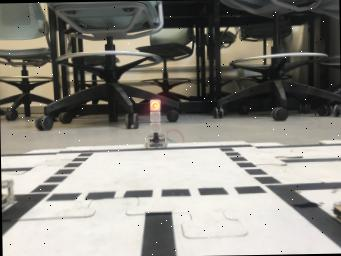street: (0, 141, 341, 256), (0, 141, 341, 256), (0, 141, 341, 256), (0, 141, 341, 256), (0, 141, 341, 256), (0, 141, 341, 256)
traffic_light: (143, 99, 168, 148), (143, 99, 168, 148), (143, 99, 168, 148), (143, 99, 168, 148), (143, 99, 168, 148), (143, 99, 168, 148)
